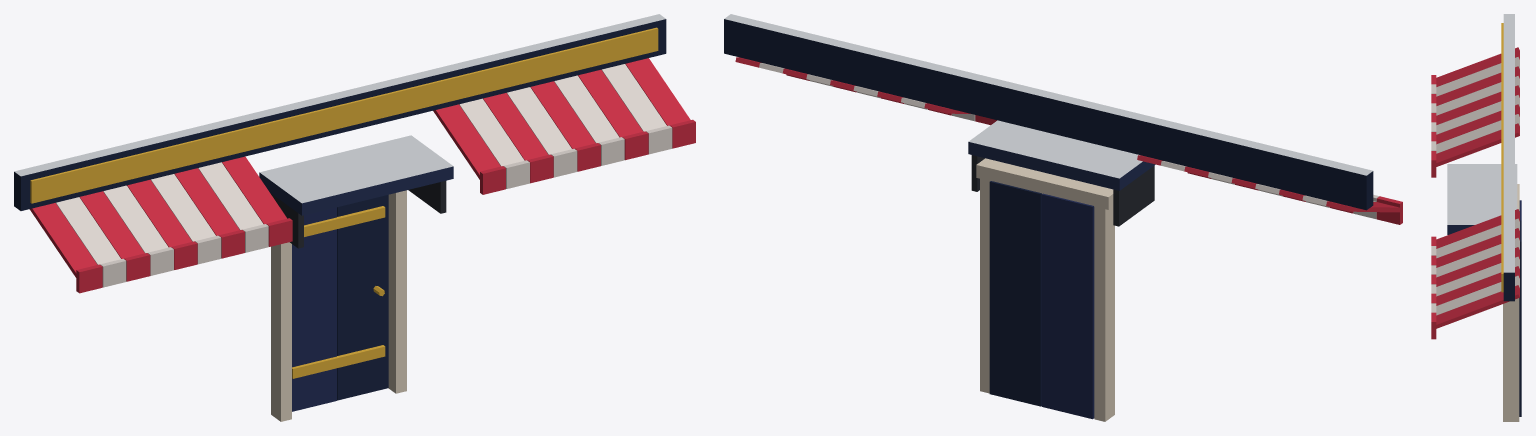
Rendered from Apartment_Grey_Shopfront.glb.
3 views of the same model, side by side, from view 1: azimuth 30°, elevation 25°; view 2: azimuth 150°, elevation 25°; view 3: azimuth 270°, elevation 25° (orthographic). The views are drawn at different scales.
Visible parts, largest first — view 1: Apartment_Grey_Shopfront; view 2: Apartment_Grey_Shopfront; view 3: Apartment_Grey_Shopfront.
Part boxes in pixels (left/top/right/bottom): Apartment_Grey_Shopfront: left=14, top=14, right=695, bottom=421; Apartment_Grey_Shopfront: left=724, top=14, right=1402, bottom=421; Apartment_Grey_Shopfront: left=1431, top=14, right=1521, bottom=421.
Size of the model in its own units: 27.2 by 12.43 by 4.02.
